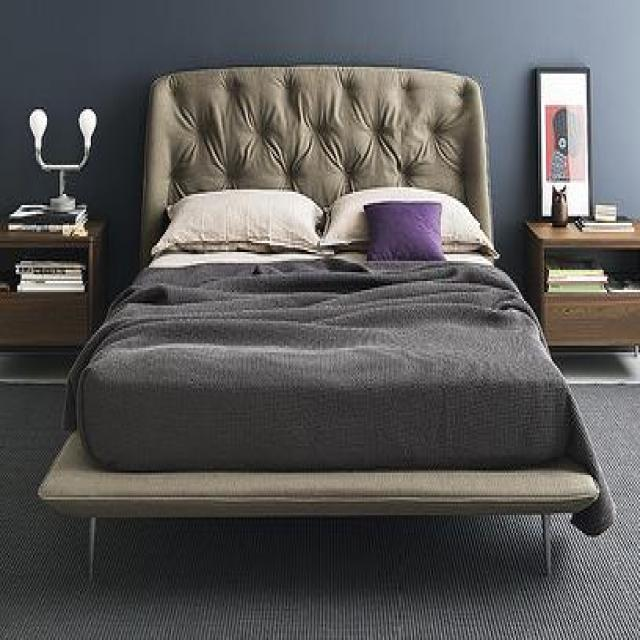bed: (38, 62, 615, 584)
